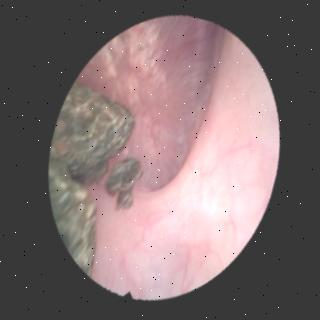stone: (51, 87, 132, 275), (105, 160, 142, 212)
tissue: (88, 20, 275, 296)
